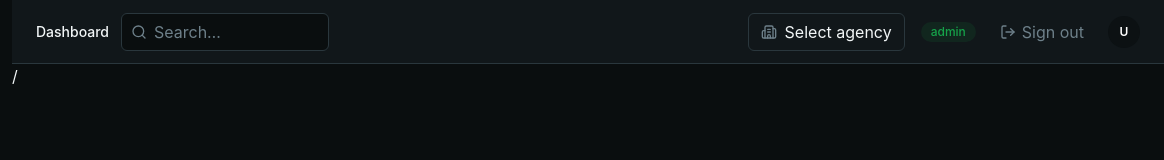
Test: Topbar navigation search › navigates when a match is clicked
Type "training" into the search field named "search navigation" at (225, 32), box [121,12,329,50]
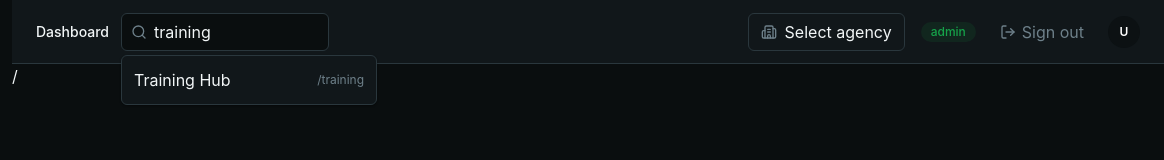
Press the mouse on the button "Training Hub /training" at (249, 80), box [122,60,376,100]
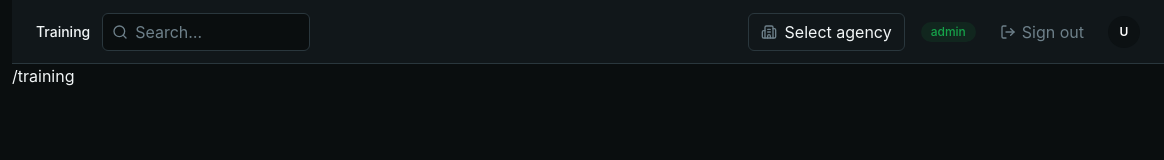
Now the text with test id "location" reads "/training", box [12,66,74,86]
